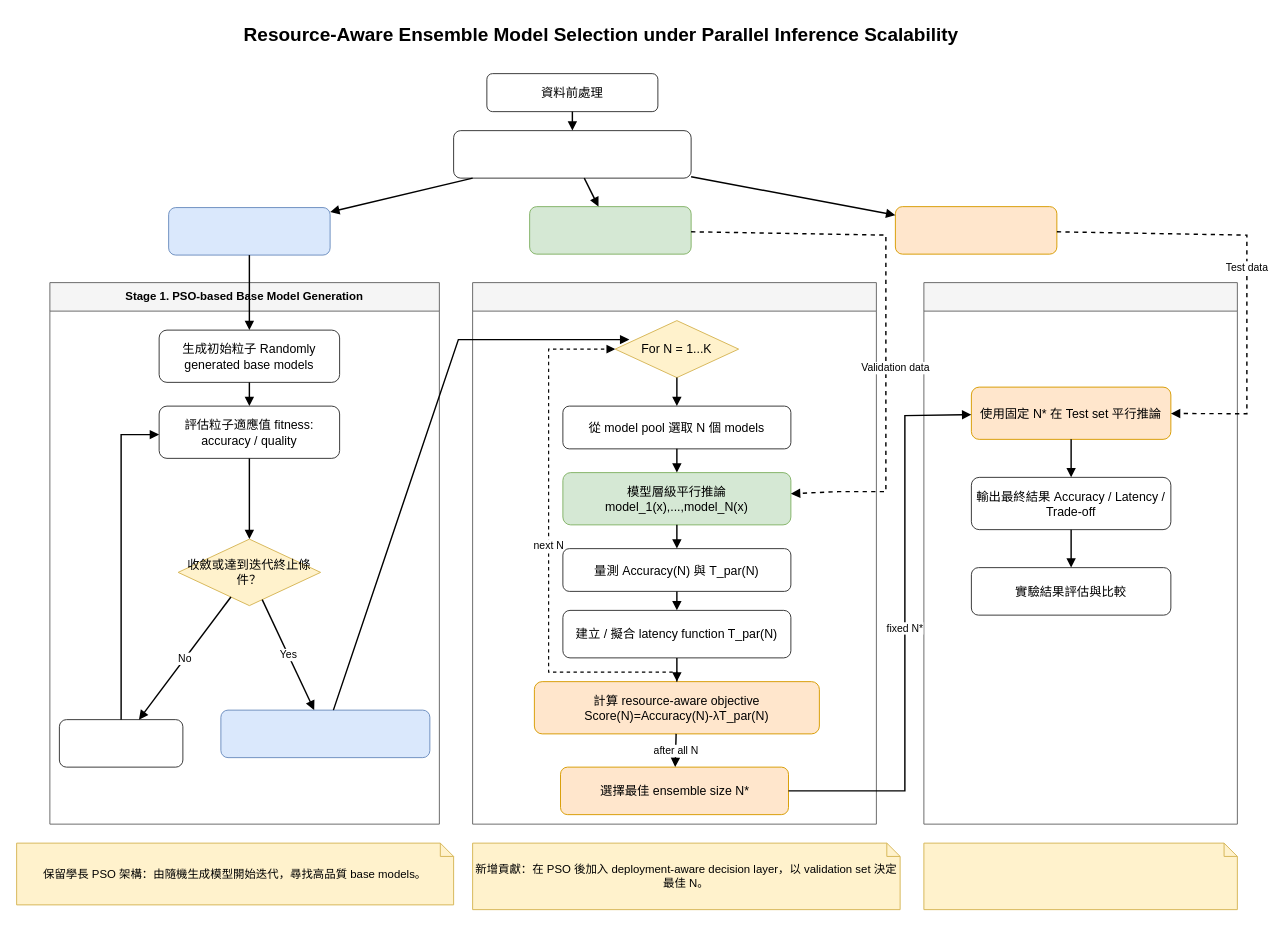
This 1284x926 diagram has some shape labels left out. The box of each missing label's shape, as (x1, y1, x2, y2) in pixels:
Stage 2. Resource-Aware Selection on Validation Set: (472, 282, 876, 824)
Stage 3. Final Evaluation on Test Set: (923, 282, 1237, 824)
Test set 僅用於 final evaluation， 不參與 N* 選擇。: (923, 842, 1237, 910)
Test set 最終評估用: (894, 206, 1057, 254)
Training set 模型生成用: (168, 207, 330, 255)
Validation set 選擇 N* 用: (529, 206, 691, 254)
更新粒子速度與位置: (58, 719, 183, 767)
資料分割 (Training / Validation / Test): (453, 130, 691, 178)
輸出高品質 base model pool: (220, 709, 430, 758)
